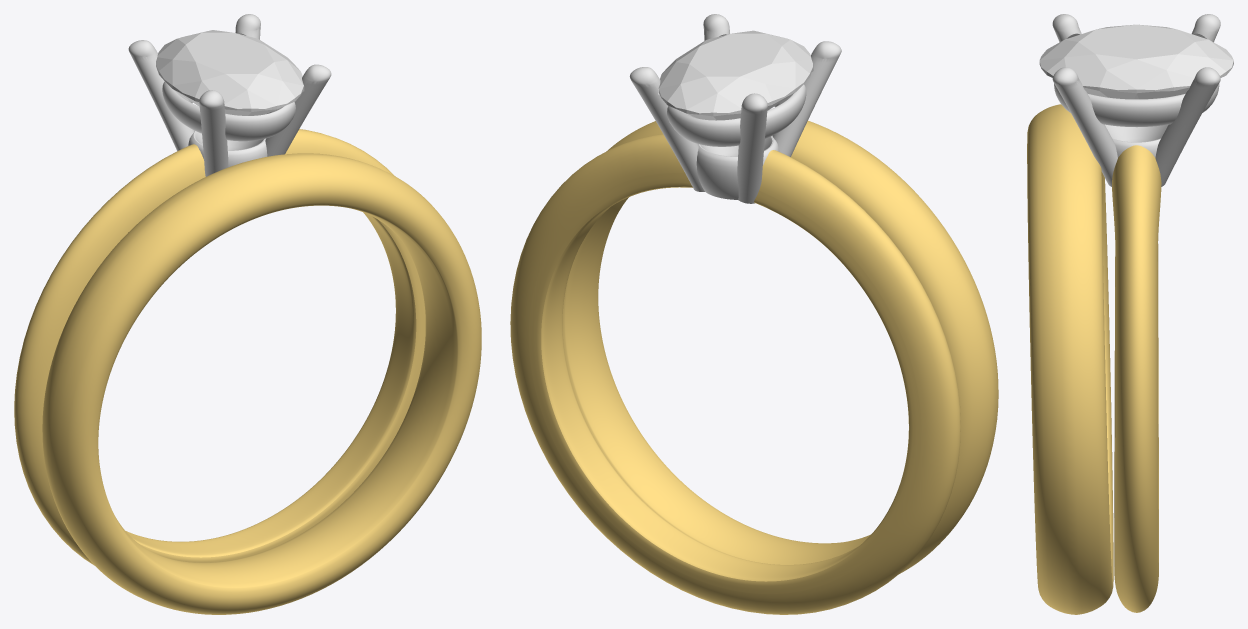
Rendered from Chris_katy_eng_wb_blender.glb.
The picture shows the model from 3 angles, left to right: view 1: azimuth 30°, elevation 25°; view 2: azimuth 150°, elevation 25°; view 3: azimuth 270°, elevation 25°; orthographic projection. The views are drawn at different scales.
Parts seen in each view (by area): view 1: Katy eng wb YG for 3d model, Katy eng wb PT for 3d model, Katy eng wb dia for 3d model; view 2: Katy eng wb YG for 3d model, Katy eng wb PT for 3d model, Katy eng wb dia for 3d model; view 3: Katy eng wb YG for 3d model, Katy eng wb PT for 3d model, Katy eng wb dia for 3d model.
Boxes of the visible parts, box(x1,y1,x2,y2) form: Katy eng wb YG for 3d model: box(14, 129, 481, 614); Katy eng wb PT for 3d model: box(128, 14, 331, 176); Katy eng wb dia for 3d model: box(156, 30, 303, 115); Katy eng wb YG for 3d model: box(510, 120, 998, 614); Katy eng wb PT for 3d model: box(629, 14, 841, 203); Katy eng wb dia for 3d model: box(658, 30, 812, 120); Katy eng wb YG for 3d model: box(1027, 104, 1161, 614); Katy eng wb PT for 3d model: box(1052, 14, 1220, 186); Katy eng wb dia for 3d model: box(1039, 24, 1233, 99).
Bounding box in the file's own units: 20.53 × 24.32 × 8.3.
